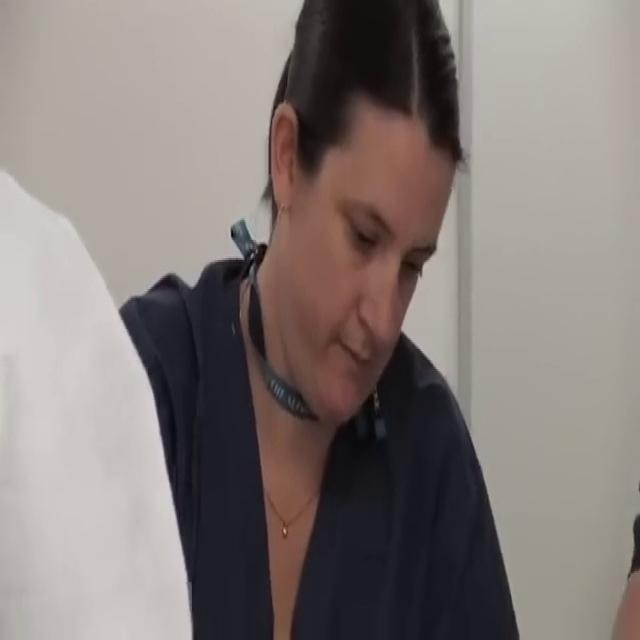nurse: (117, 0, 521, 636)
